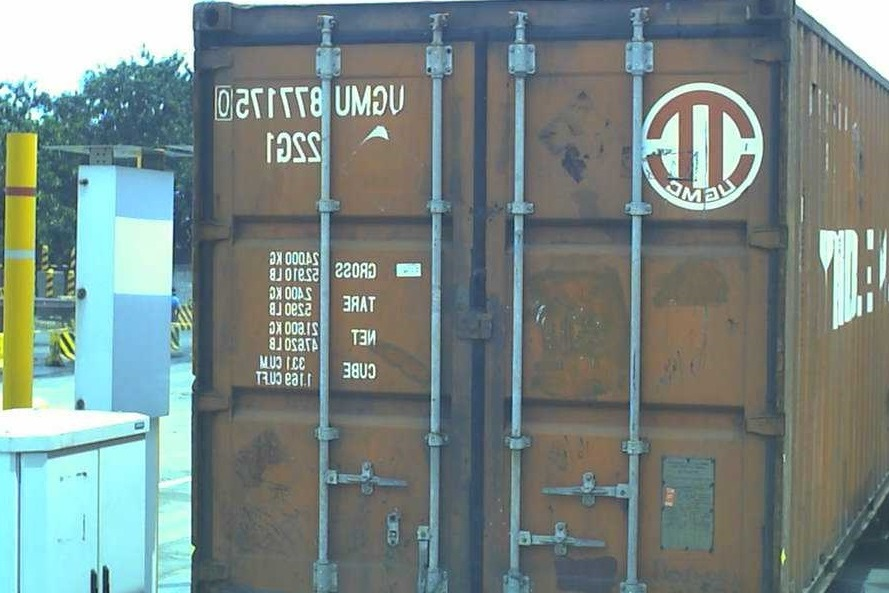container_door: (187, 1, 787, 587)
